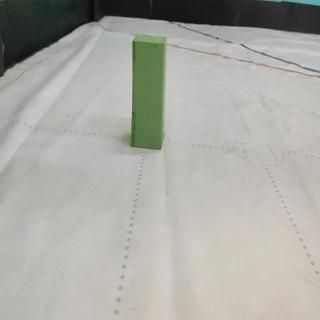greenbox: (131, 33, 166, 150)
